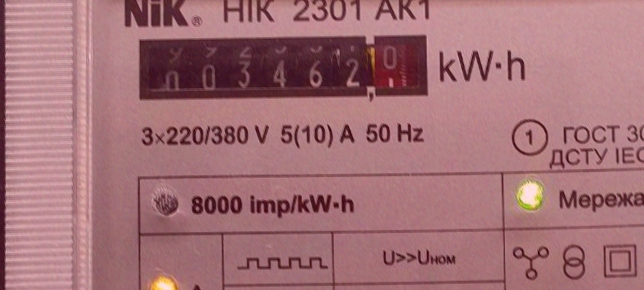0: (200, 60, 218, 89), (382, 42, 399, 70), (162, 66, 181, 90)
2: (344, 55, 362, 87)
3: (235, 57, 253, 90)
4: (272, 56, 289, 88)
6: (306, 55, 326, 90)
9: (165, 44, 185, 64)
screen: (126, 22, 440, 117)
